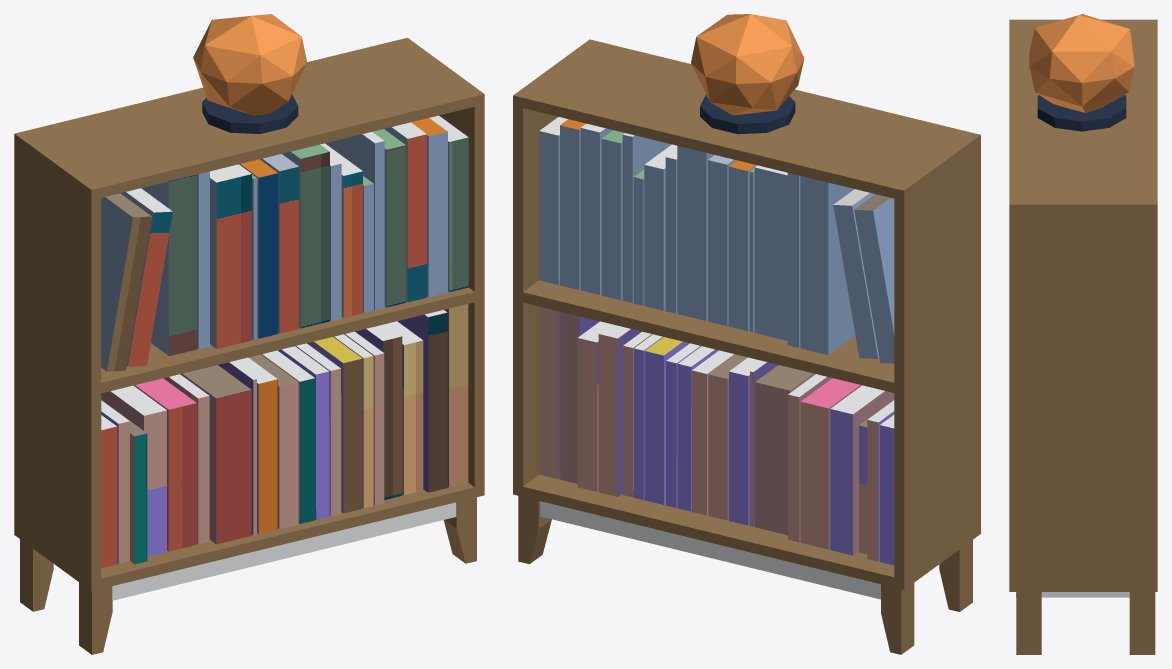
Rendered from Accesories_Bookshelft_A.glb.
The picture shows the model from 3 angles, left to right: view 1: azimuth 30°, elevation 25°; view 2: azimuth 150°, elevation 25°; view 3: azimuth 270°, elevation 25°; orthographic projection. The views are drawn at different scales.
Visible parts, largest first — view 1: Accesories_Bookshelft_A; view 2: Accesories_Bookshelft_A; view 3: Accesories_Bookshelft_A.
Boxes of the visible parts, box(x1,y1,x2,y2) form: Accesories_Bookshelft_A: box(14, 14, 484, 654); Accesories_Bookshelft_A: box(513, 14, 980, 654); Accesories_Bookshelft_A: box(1009, 14, 1157, 654).
Bounding box in the file's own units: 1.09 × 1.51 × 0.371.
1 material, 1 textured.
